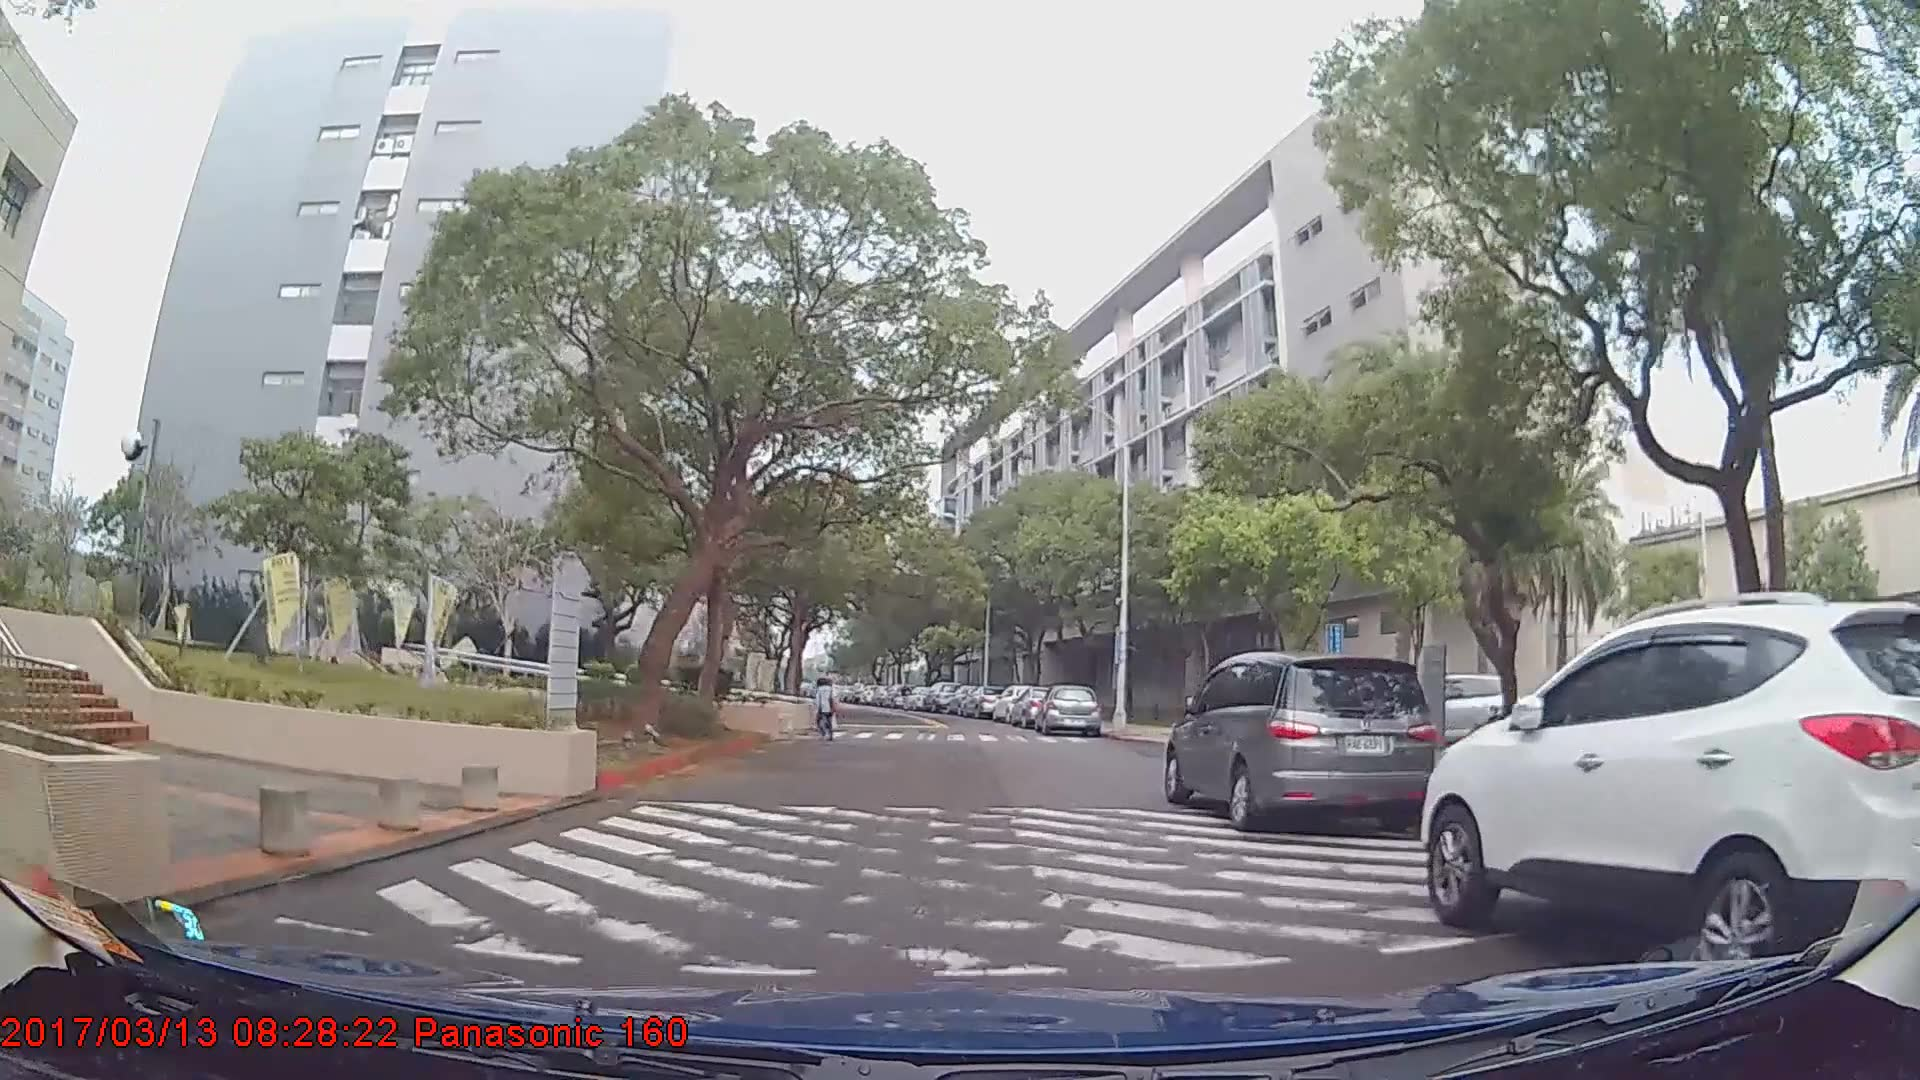pedestrian: (812, 679, 843, 744), (816, 666, 841, 730)
vehicle: (1419, 596, 1919, 986), (1160, 650, 1437, 832), (1041, 681, 1102, 734), (965, 686, 1006, 717), (921, 679, 960, 711)
